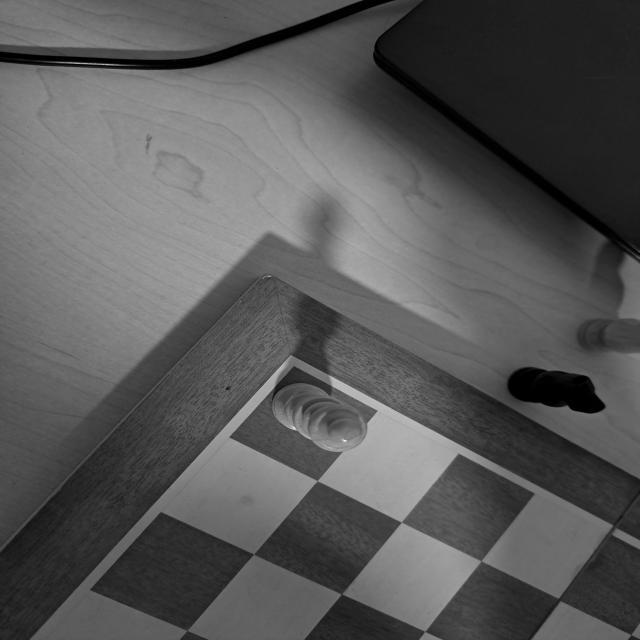chess-table-corners: (267, 347, 323, 390)
